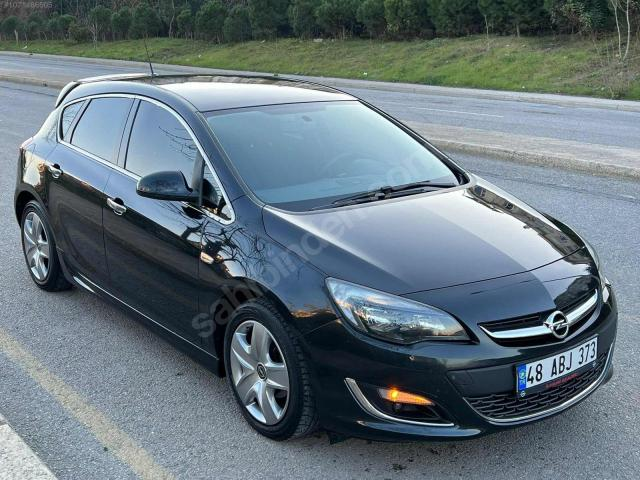plaka: (517, 338, 597, 392)
